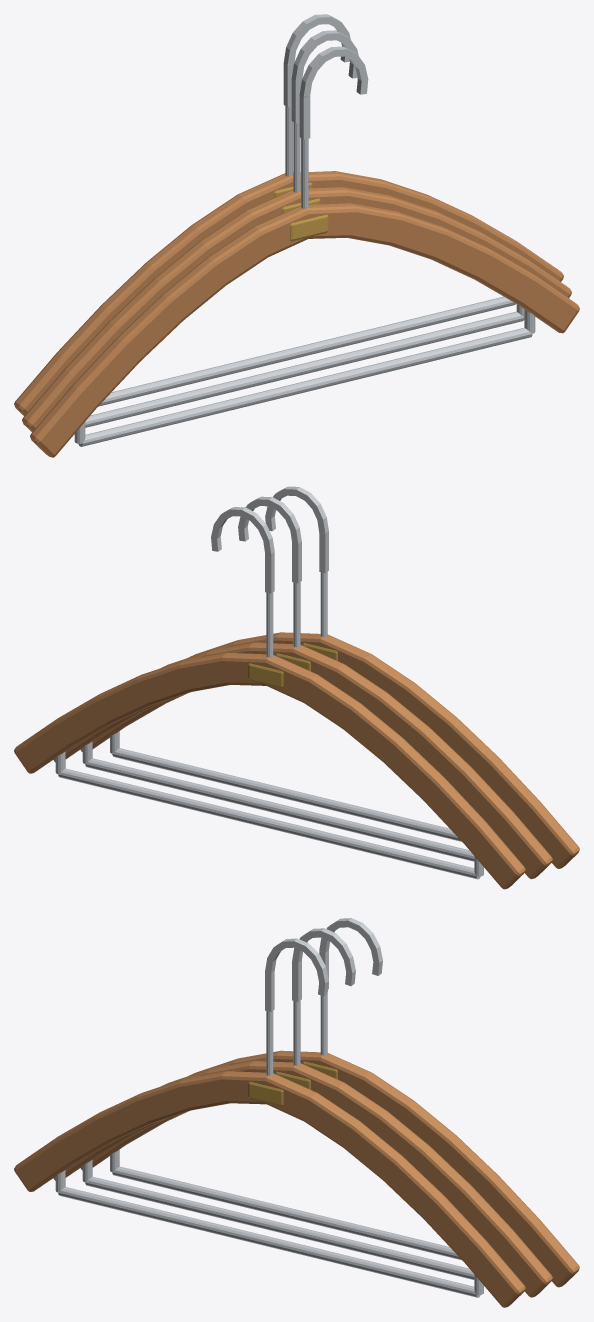
Rendered from hh_cat_hangers.glb.
3 renders of one model, top to bottom at view 1: azimuth 30°, elevation 25°; view 2: azimuth 150°, elevation 25°; view 3: azimuth 330°, elevation 25°, orthographic. The views are drawn at different scales.
Parts seen in each view (by area): view 1: hanger, hanger.001, hanger.002, bar, bar.003, bar.006, hook.001, hook.003, hook.005, hook_collar; view 2: hanger.002, hanger.001, hanger, bar.006, bar.003, bar, hook.005, hook.003, hook.001, hook_collar.002, hook.002, hook.004 (+1 smaller); view 3: hanger, hanger.001, hanger.002, bar, bar.003, bar.006, hook.001, hook.003, hook.005, hook_collar, hook.002, hook.
Part boxes in pixels (left/top/right/bottom): hanger: left=30, top=203, right=579, bottom=457; hanger.001: left=22, top=187, right=571, bottom=431; hanger.002: left=14, top=171, right=563, bottom=415; bar: left=78, top=327, right=532, bottom=446; bar.003: left=85, top=311, right=524, bottom=427; bar.006: left=98, top=296, right=515, bottom=406; hook.001: left=299, top=46, right=368, bottom=139; hook.003: left=291, top=30, right=358, bottom=123; hook.005: left=283, top=14, right=350, bottom=107; hook_collar: left=290, top=214, right=328, bottom=241; hanger.002: left=14, top=652, right=525, bottom=889; hanger.001: left=53, top=642, right=552, bottom=879; hanger: left=80, top=632, right=579, bottom=868; bar.006: left=58, top=768, right=480, bottom=879; bar.003: left=85, top=758, right=474, bottom=861; bar: left=112, top=748, right=461, bottom=841; hook.005: left=211, top=507, right=274, bottom=593; hook.003: left=238, top=496, right=301, bottom=583; hook.001: left=265, top=486, right=328, bottom=573; hook_collar.002: left=248, top=663, right=283, bottom=687; hook.002: left=293, top=582, right=300, bottom=647; hook.004: left=266, top=592, right=273, bottom=657; hanger: left=14, top=1071, right=525, bottom=1307; hanger.001: left=53, top=1061, right=552, bottom=1297; hanger.002: left=80, top=1050, right=579, bottom=1287; bar: left=58, top=1187, right=480, bottom=1297; bar.003: left=85, top=1176, right=474, bottom=1279; bar.006: left=112, top=1166, right=461, bottom=1260; hook.001: left=265, top=938, right=328, bottom=1011; hook.003: left=292, top=928, right=355, bottom=1001; hook.005: left=319, top=918, right=382, bottom=989; hook_collar: left=248, top=1082, right=283, bottom=1106; hook.002: left=293, top=1000, right=300, bottom=1065; hook: left=266, top=1011, right=273, bottom=1075.
Size of the model in its own units: 0.42 by 0.24 by 0.06.
